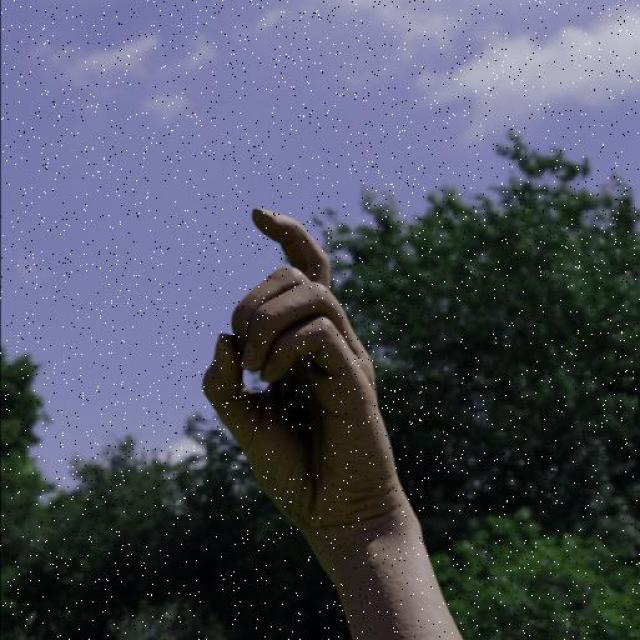X: (194, 194, 411, 576)
